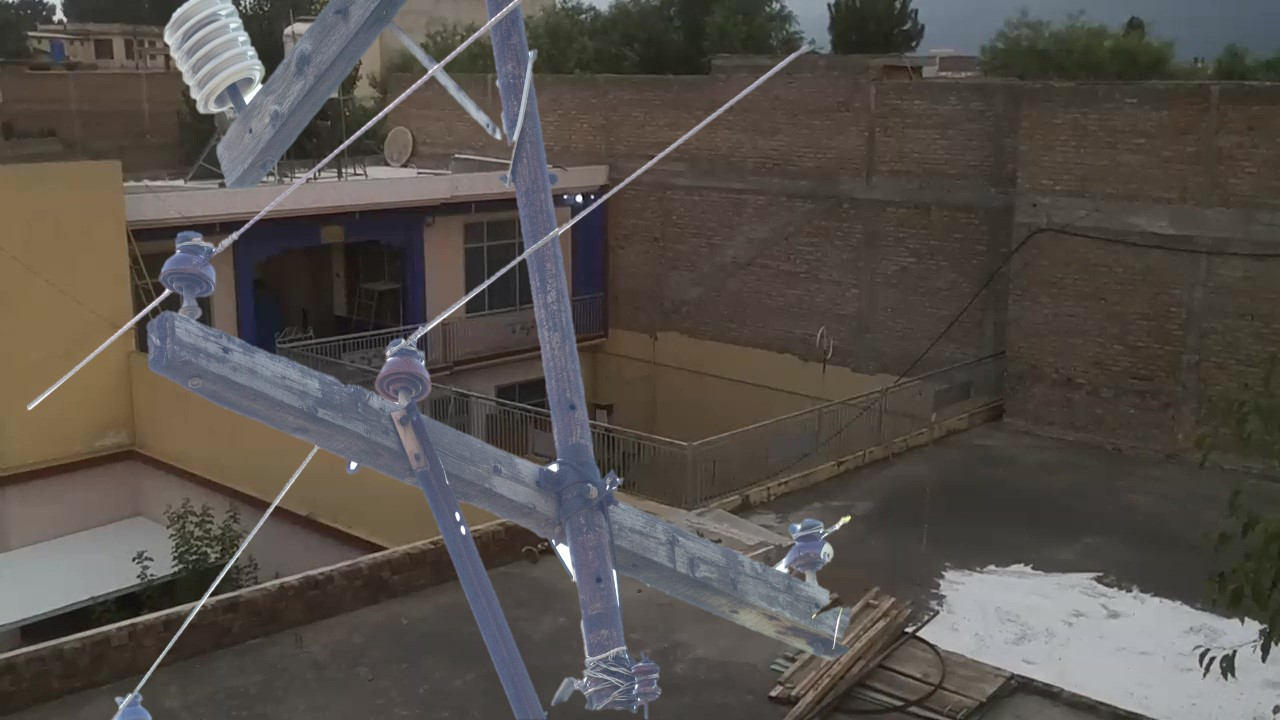defect_pin: (780, 507, 841, 577)
insulator_pin: (154, 219, 223, 312), (370, 330, 439, 407)
